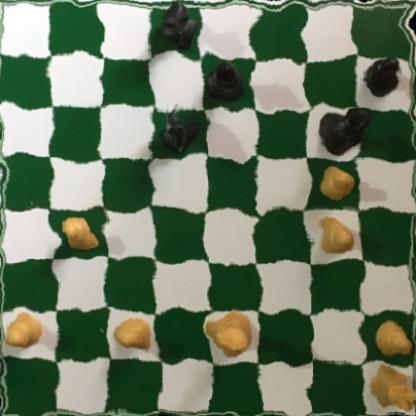black-bishop: (201, 57, 248, 102)
black-king: (317, 103, 373, 156)
black-knight: (157, 101, 200, 158)
black-pawn: (359, 54, 406, 95)
black-rook: (155, 0, 198, 48)
white-king: (210, 310, 253, 356)
white-pawn: (54, 211, 101, 254), (310, 216, 357, 257), (314, 160, 356, 201), (3, 310, 47, 348), (370, 323, 412, 361), (117, 314, 153, 358)
white-rook: (366, 364, 416, 414)
